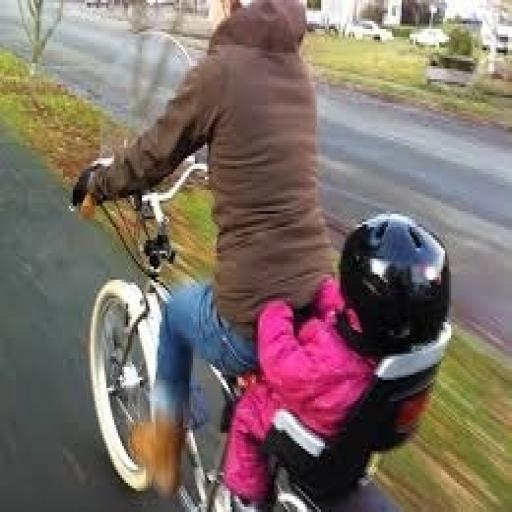cycling: (73, 0, 341, 504), (217, 208, 455, 510)
